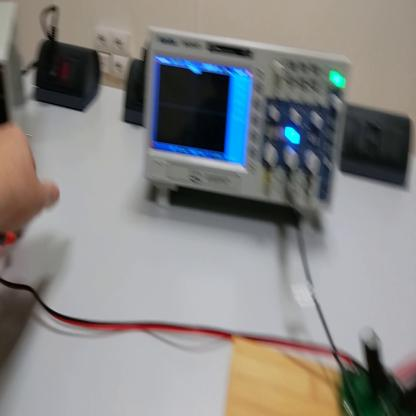hand: (2, 124, 61, 239)
high voltage board: (340, 332, 416, 416)
oscilloscope: (143, 22, 352, 235)
power supply: (2, 11, 22, 119)
socket: (33, 35, 103, 117), (122, 58, 151, 129)
working area: (225, 334, 342, 416)
